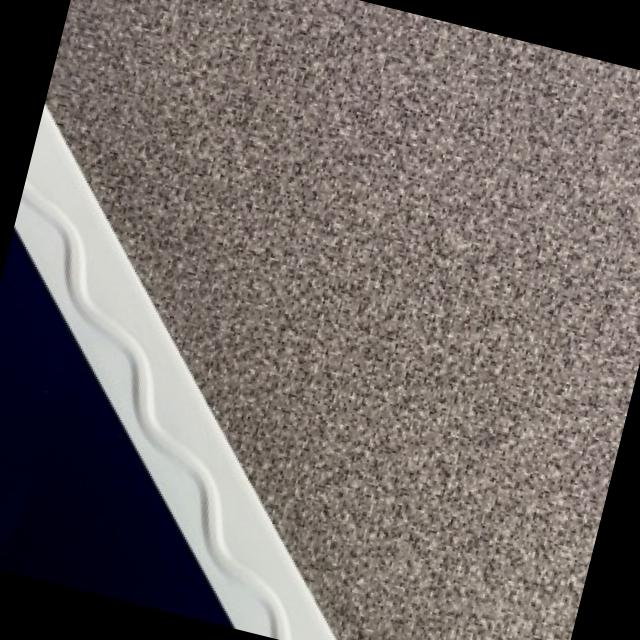healthy: (53, 0, 529, 640)
